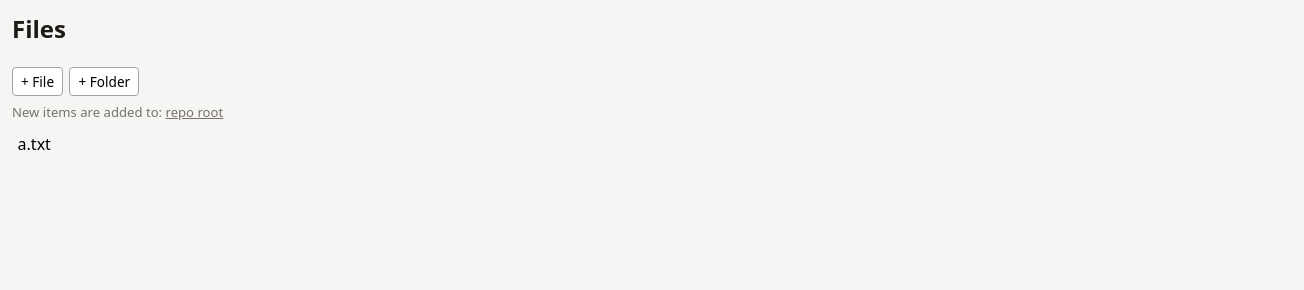
Test case: FileTree › creates a new file in the repo root and opens it
Expected: the button with test id "tree-file-a.txt" is shown, [12, 130, 1292, 159]
Step 1. Click the button with test id "new-file-button" → [38, 82], box [12, 67, 63, 96]
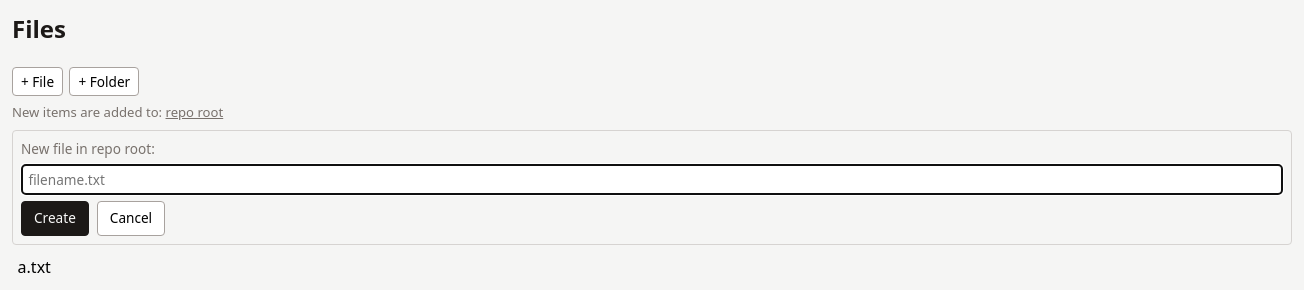
Step 2. Type "notes.txt" into the field with test id "file-tree-create-input" → [652, 180], box [21, 164, 1283, 195]
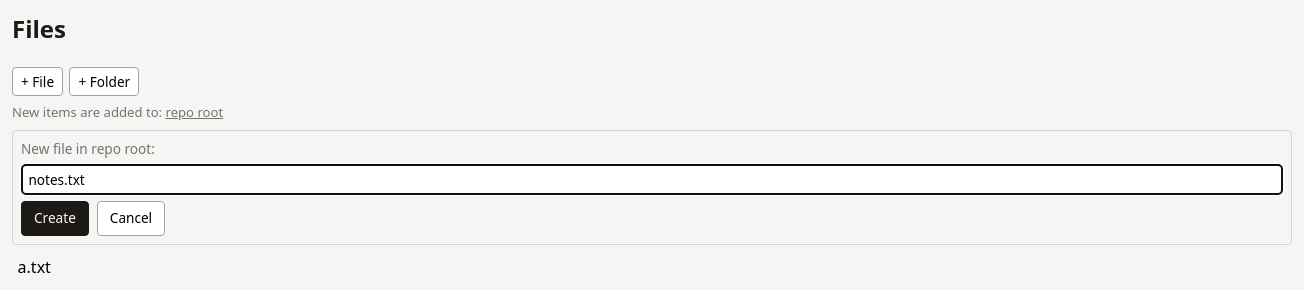
Step 3. Click the button with test id "file-tree-create-confirm" → [55, 218], box [21, 201, 89, 236]
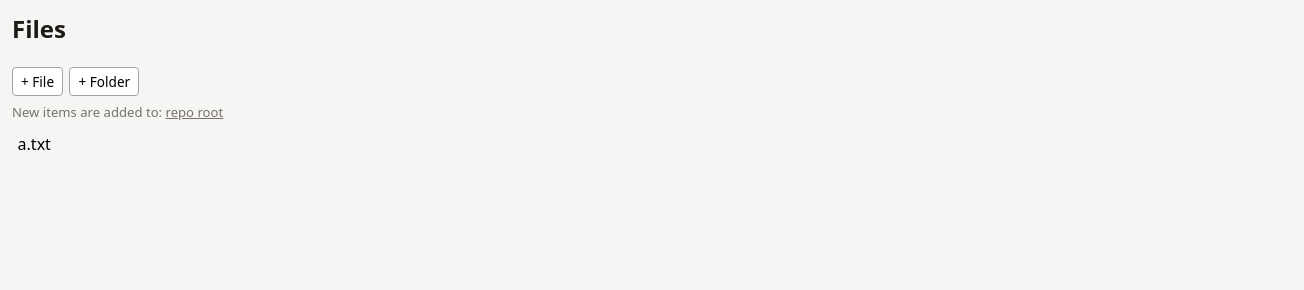
Now the form with test id "file-tree-create-form" is gone
